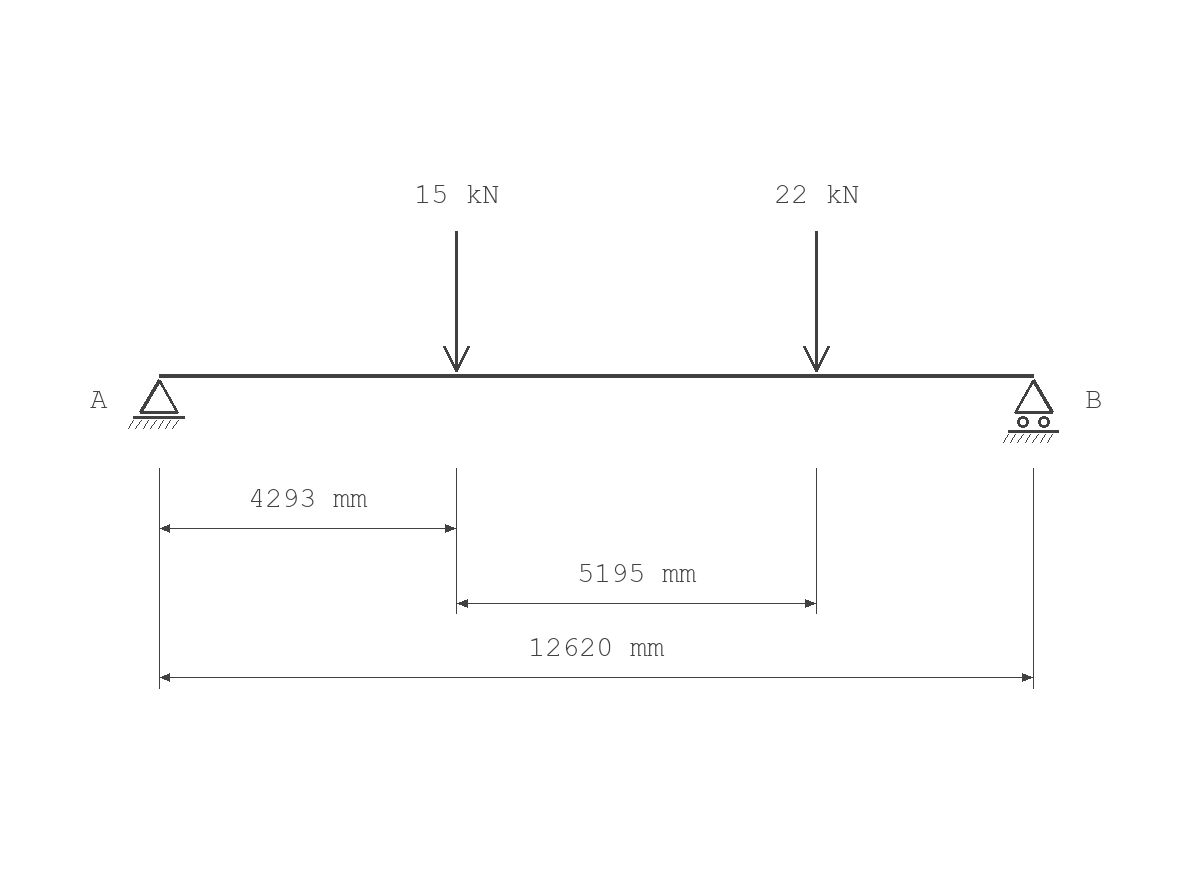pin_support: (128, 379, 185, 429)
point_load: (443, 231, 470, 372), (803, 231, 830, 372)
roller_support: (1003, 379, 1059, 443)
